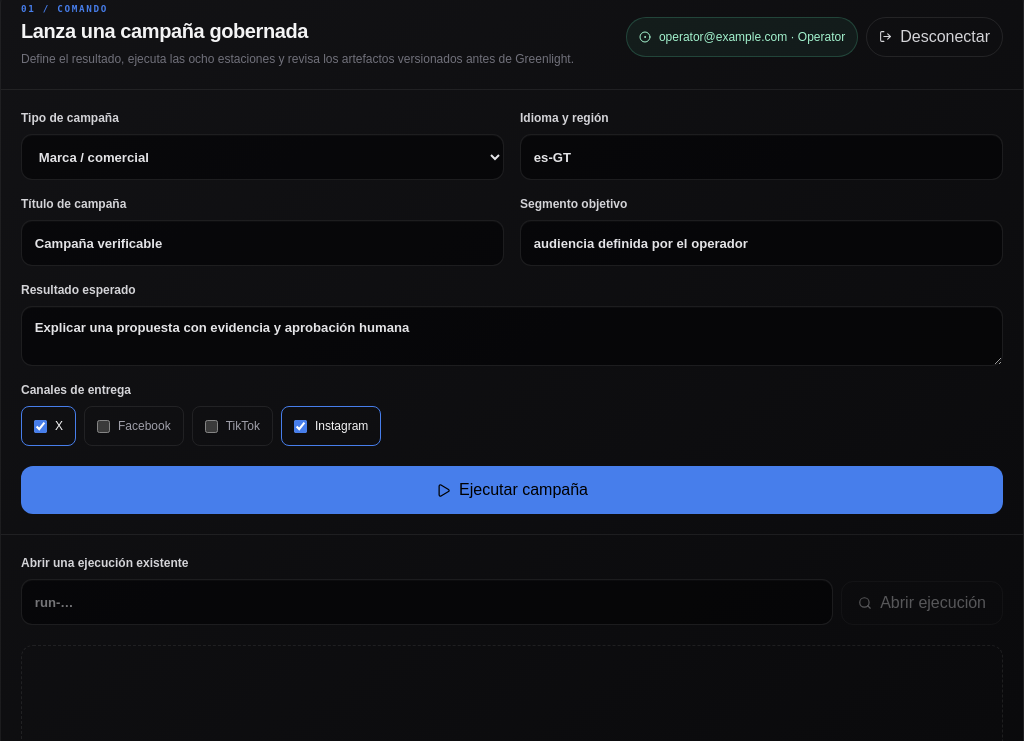
Scenario: WorkspaceRuntime › renders versioned outputs from the governed runtime and reports the run upward
Check: the text "operator@example.com · Operator" is shown, box [626,17,858,57]
Click the button "Ejecutar campaña": click(512, 490) [21,466,1003,514]
(page scrolled)
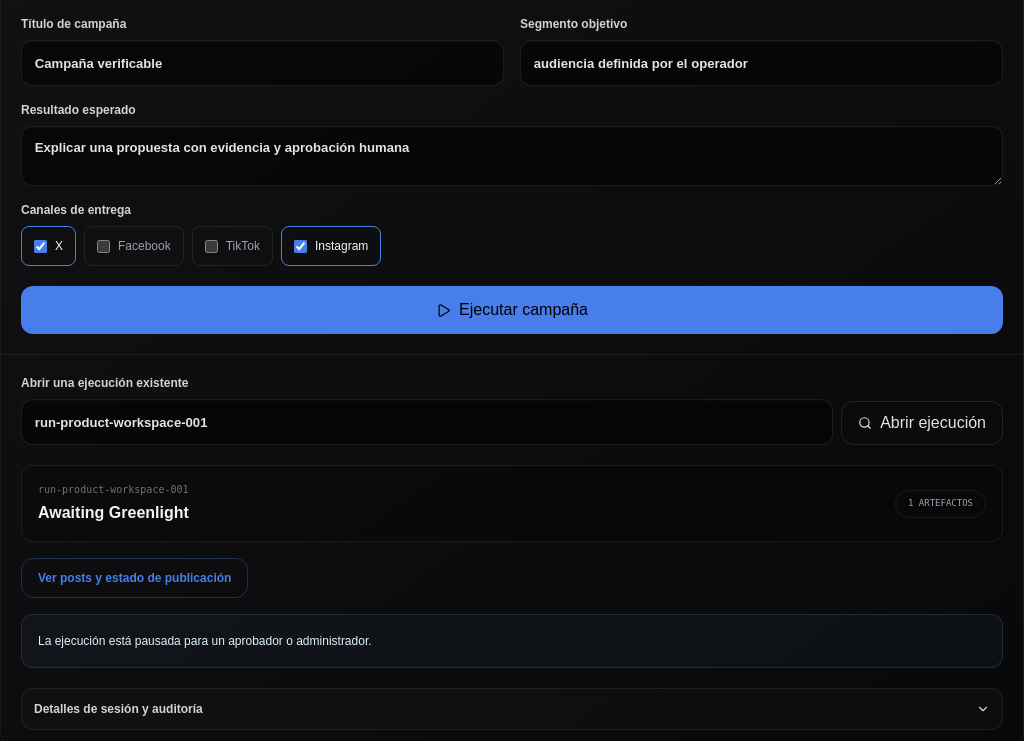
Check: the text "run-product-workspace-001" is shown, box [38,482,189,497]
